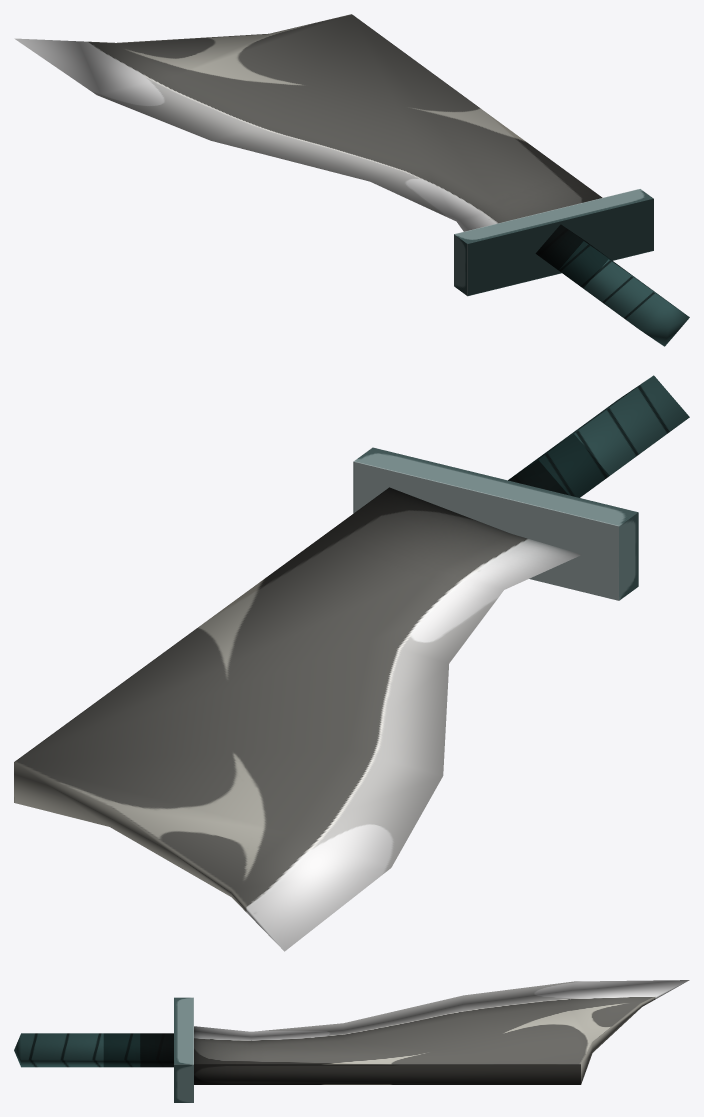
The model's file is Sword_05.FBX.
The picture shows the model from 3 angles, top to bottom: view 1: azimuth 30°, elevation 25°; view 2: azimuth 150°, elevation 25°; view 3: azimuth 270°, elevation 25°; orthographic projection. The views are drawn at different scales.
Visible parts, largest first — view 1: Sword_05; view 2: Sword_05; view 3: Sword_05.
Boxes of the visible parts, x1,y1,x2,y2 form: Sword_05: [14, 14, 689, 346]; Sword_05: [14, 375, 689, 951]; Sword_05: [14, 980, 689, 1102].
Size of the model in its own units: 0.8141 by 0.1404 by 2.24.
